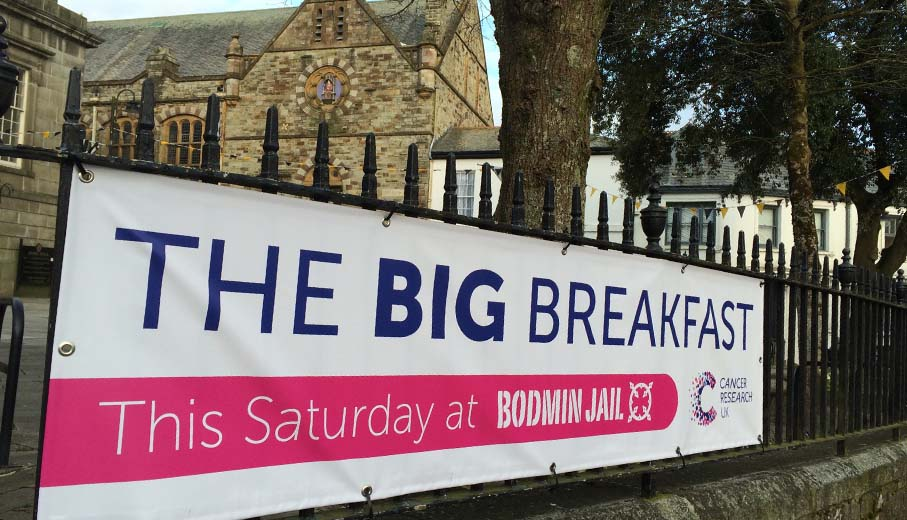vinyl banner: (40, 147, 774, 520)
